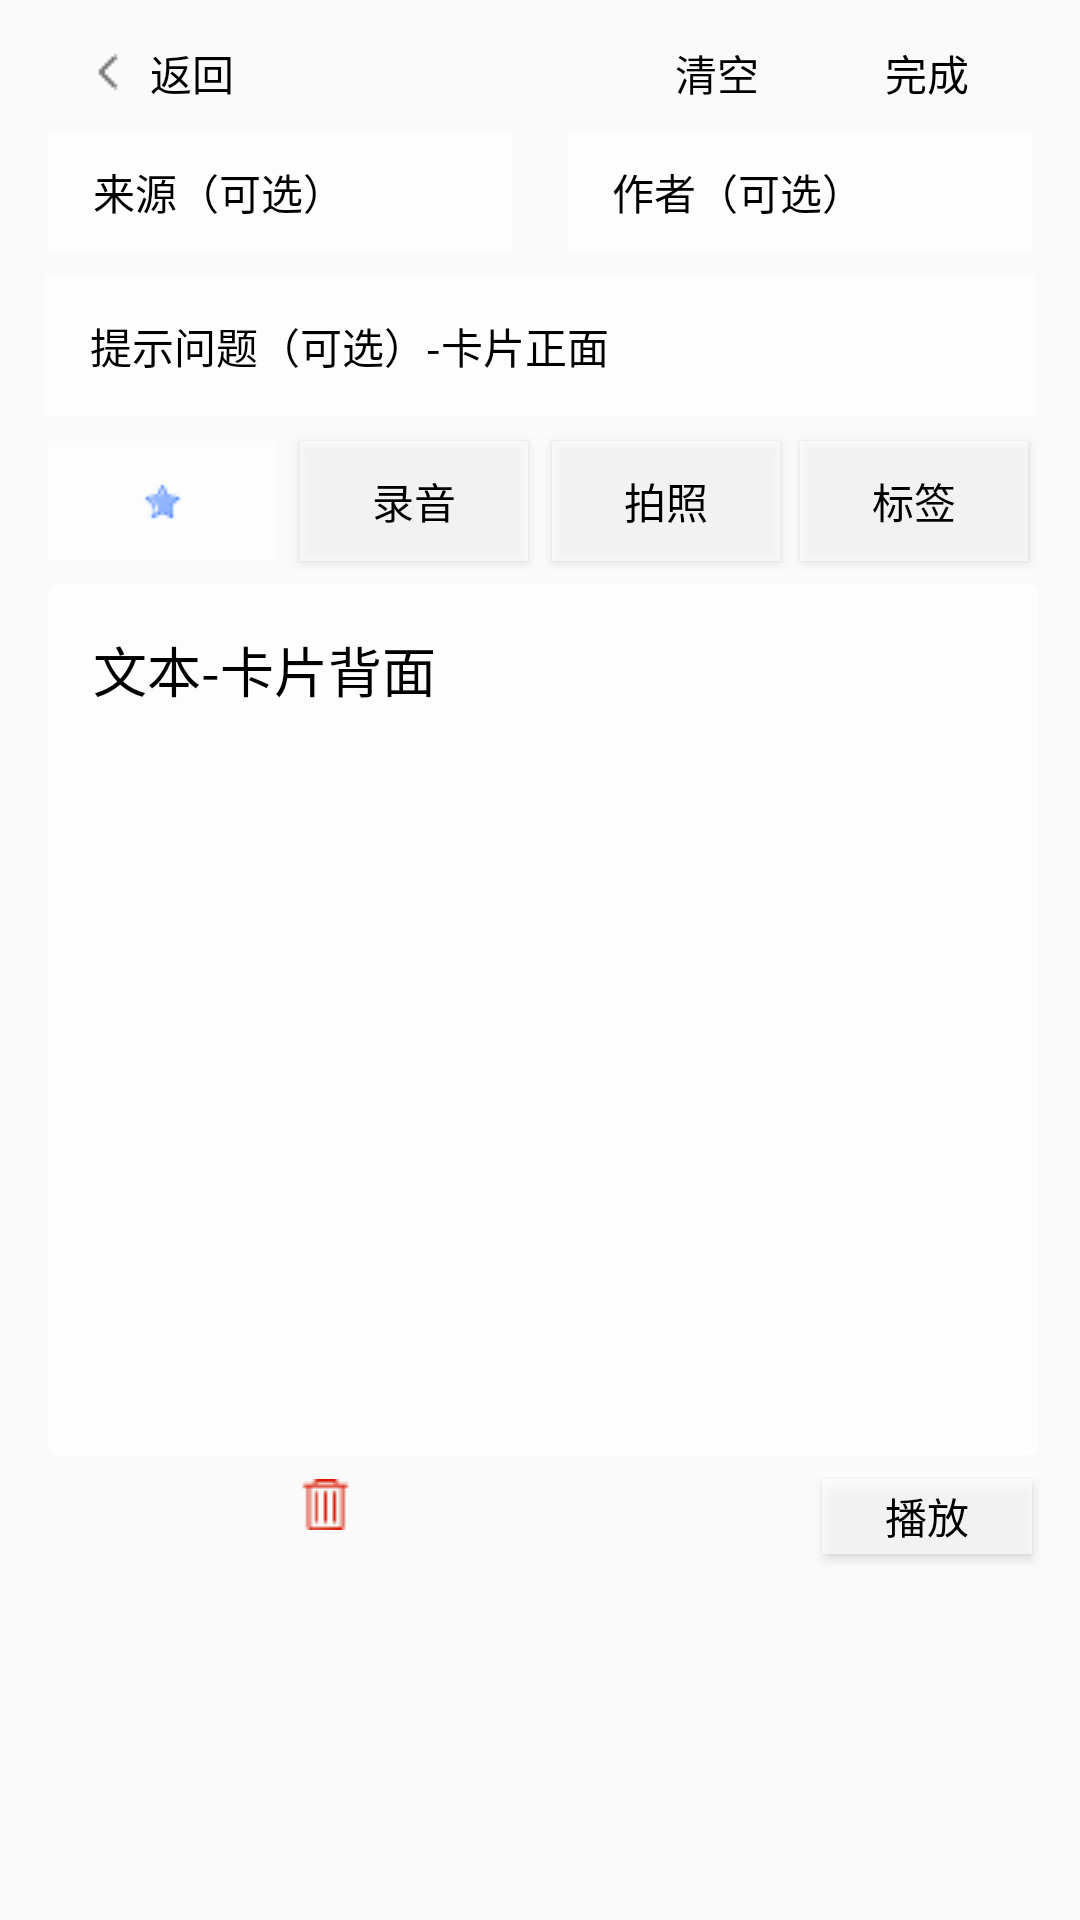

Locate icon controls on the screen. Image size 1080x1920, boxes as detection(x1, y1, x2, y2).
star: detection(145, 484, 180, 519)
